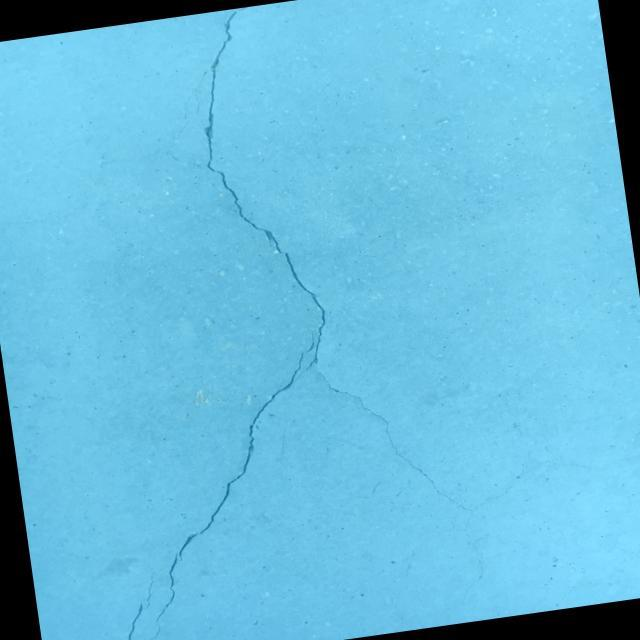crack: (53, 0, 612, 640), (101, 557, 178, 640), (196, 162, 216, 189)
